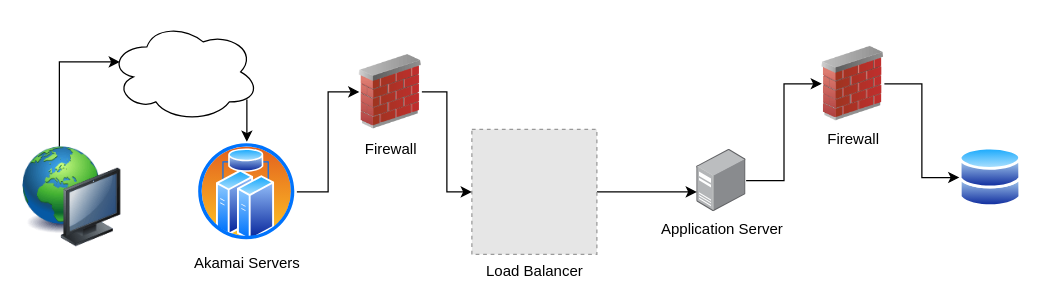
This 1044x303 diagram has some shape labels left out. Grey dashed boxes stand in for pictures. Here are the shapes that lost their labels. From the top down, the centre of each, then its label:
At point (183, 71): "Public Private Cloud".
At point (990, 177): "Database".
